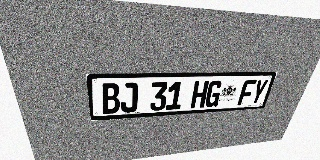1: (166, 81, 184, 110)
3: (150, 82, 168, 111)
B: (101, 83, 120, 114)
F: (237, 80, 257, 105)
G: (204, 80, 223, 107)
H: (190, 81, 209, 108)
J: (120, 82, 138, 113)
Y: (249, 79, 269, 104)
